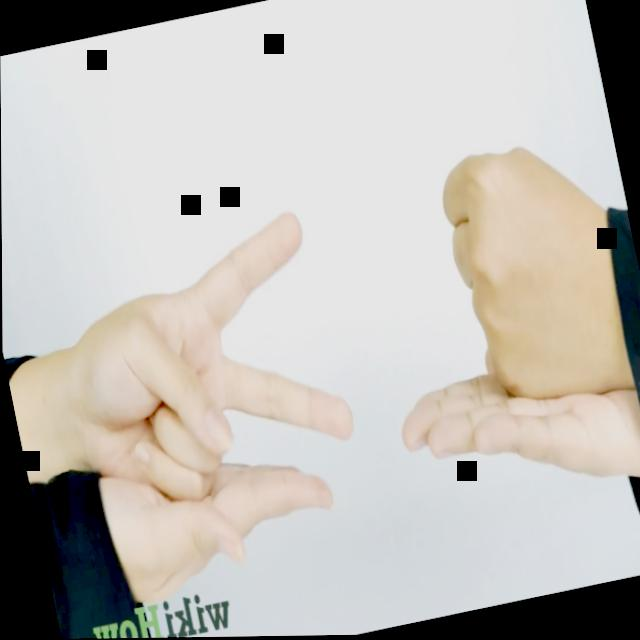Rock: (431, 127, 640, 418)
Scissors: (49, 205, 365, 529)
